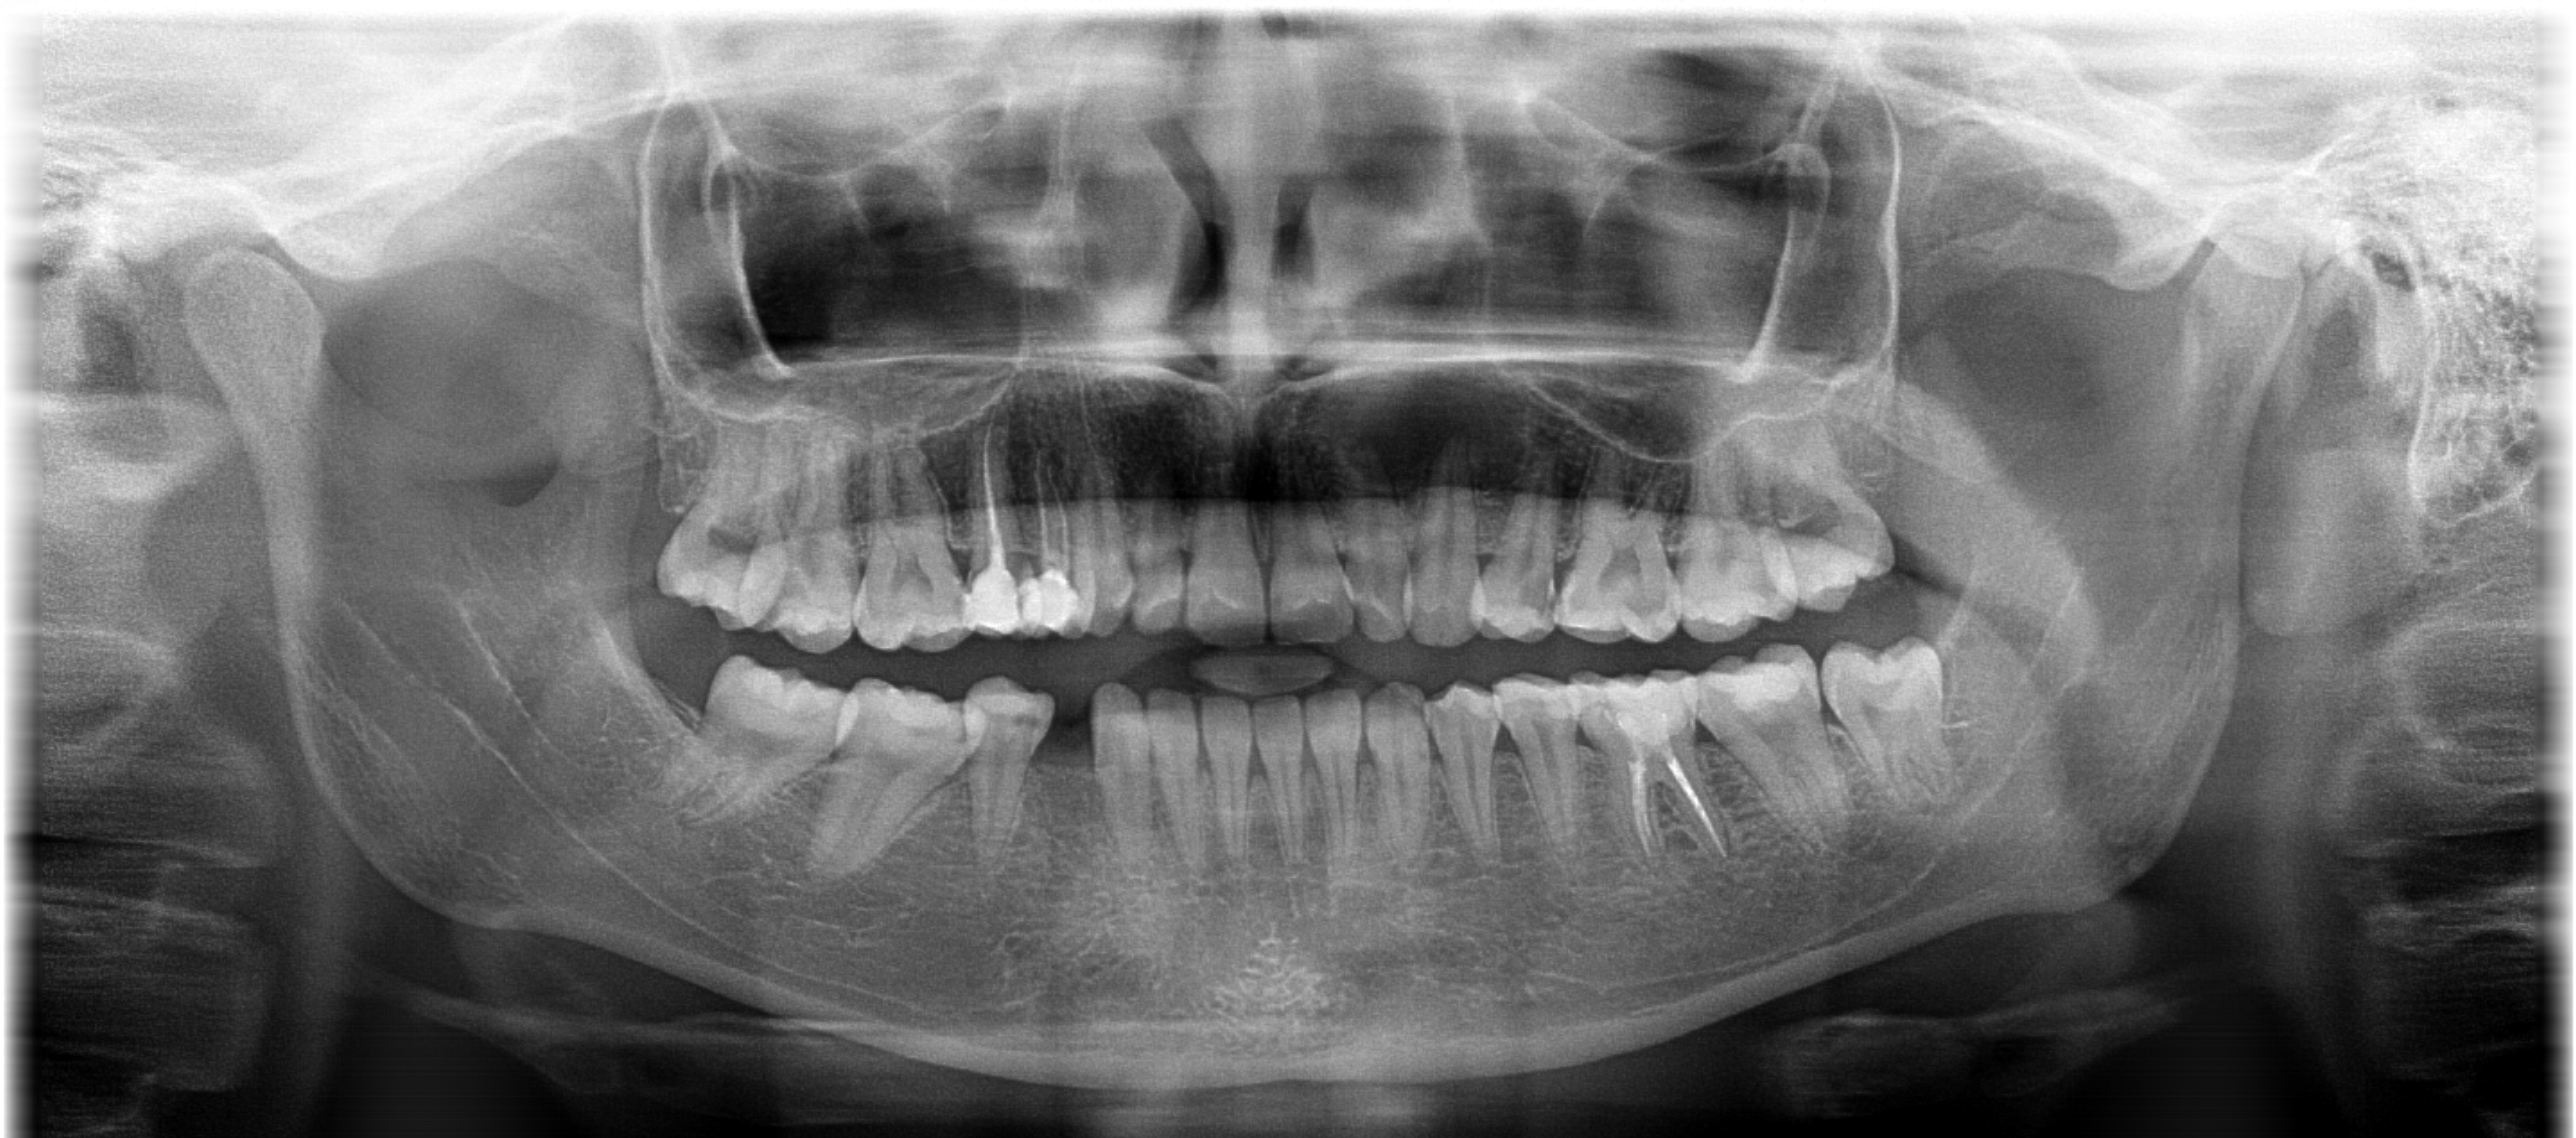cordal: (1794, 627, 2026, 831), (1728, 419, 1960, 622), (613, 438, 844, 642)
tratamiento_conducto: (1559, 655, 1751, 893), (933, 412, 1042, 657), (1004, 414, 1112, 658)
zona_dentula: (1015, 685, 1119, 862)
